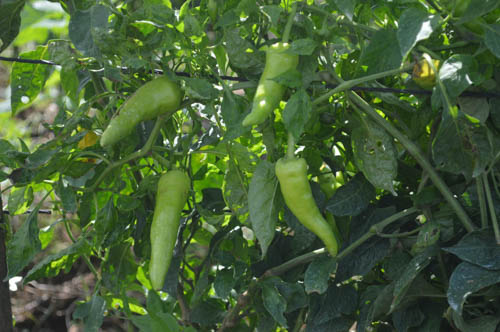ChiliPepper: (281, 157, 339, 257), (101, 76, 189, 141), (245, 42, 296, 131), (147, 172, 185, 290)
